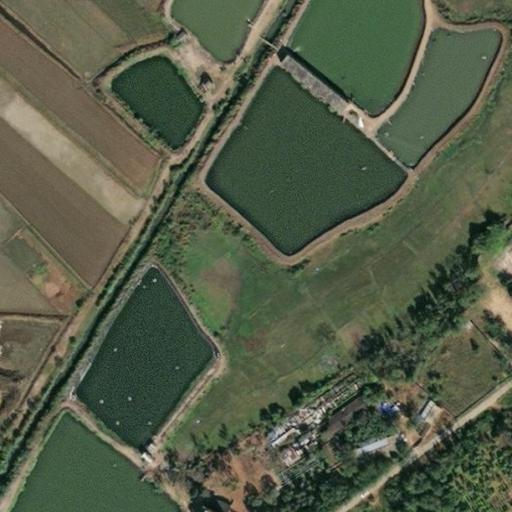building: (274, 48, 351, 117), (316, 388, 372, 439), (354, 430, 389, 456), (409, 403, 434, 431), (494, 352, 510, 368), (407, 425, 421, 440), (501, 466, 511, 482)
